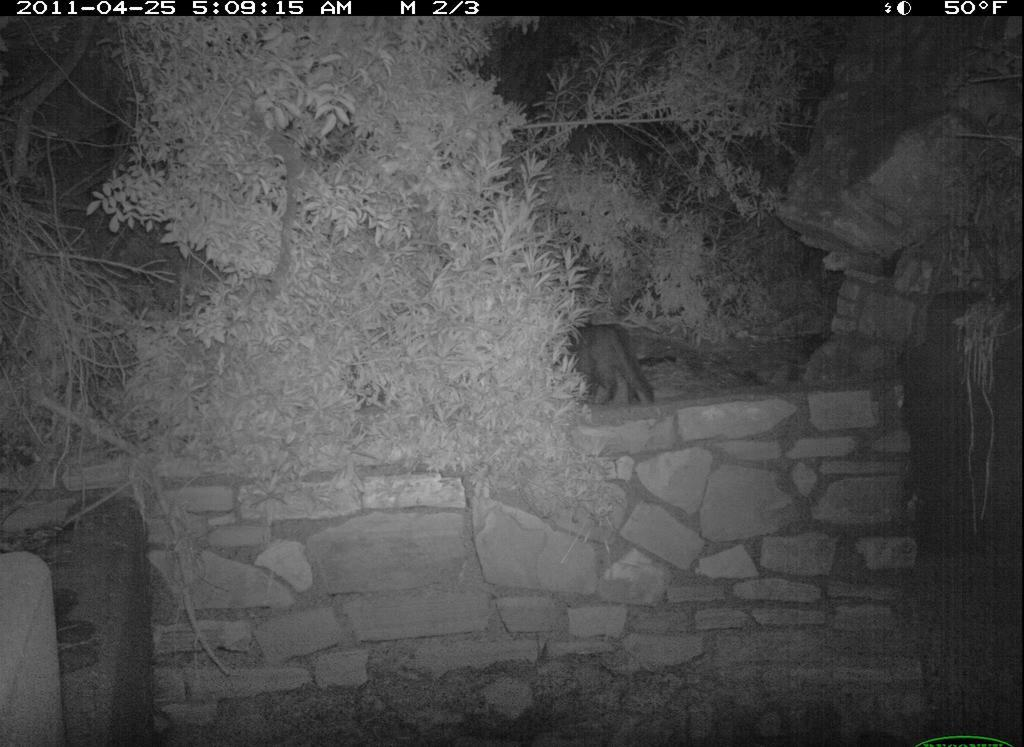cat: (561, 315, 662, 420)
